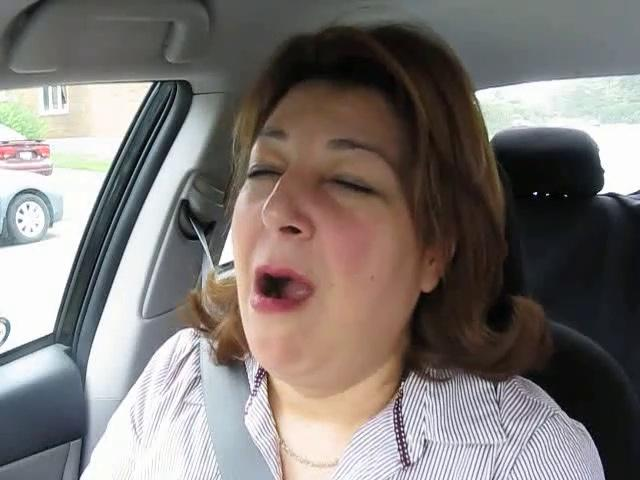close_eyeL: (229, 151, 293, 192)
close_eyeR: (306, 162, 392, 211)
yawn: (227, 255, 333, 324)
